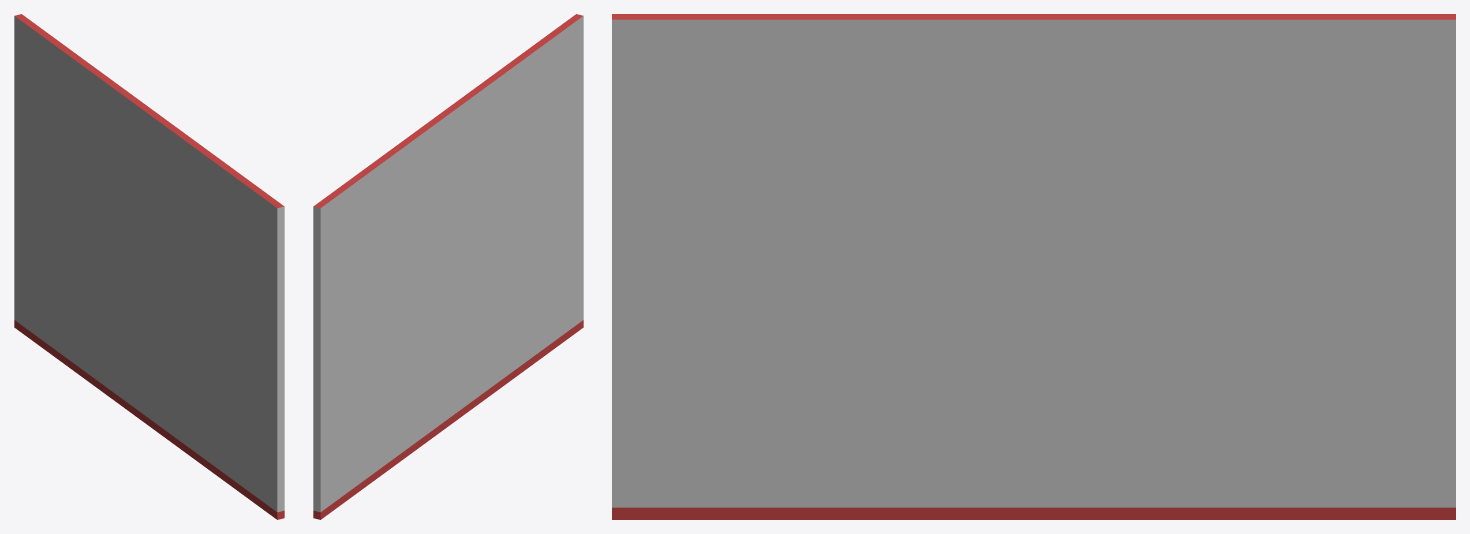
Rendered from West-Wall-SHOP.fbx.
The picture shows the model from 3 angles, left to right: view 1: azimuth 30°, elevation 25°; view 2: azimuth 150°, elevation 25°; view 3: azimuth 270°, elevation 25°; orthographic projection. The views are drawn at different scales.
Parts seen in each view (by area): view 1: Cube; view 2: Cube; view 3: Cube.
Boxes of the visible parts, x1,y1,x2,y2 form: Cube: [14, 14, 284, 519]; Cube: [313, 14, 583, 519]; Cube: [612, 14, 1455, 519].
Size of the model in its own units: 954 by 15.23 by 624.
